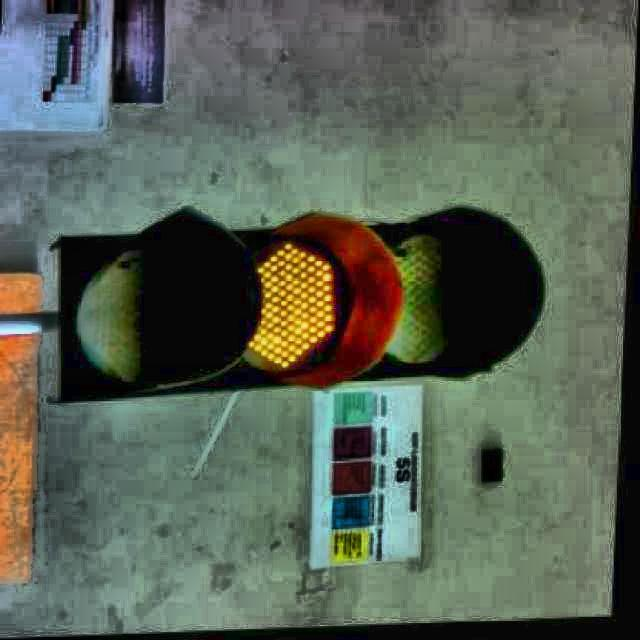yellow: (58, 220, 536, 387)
